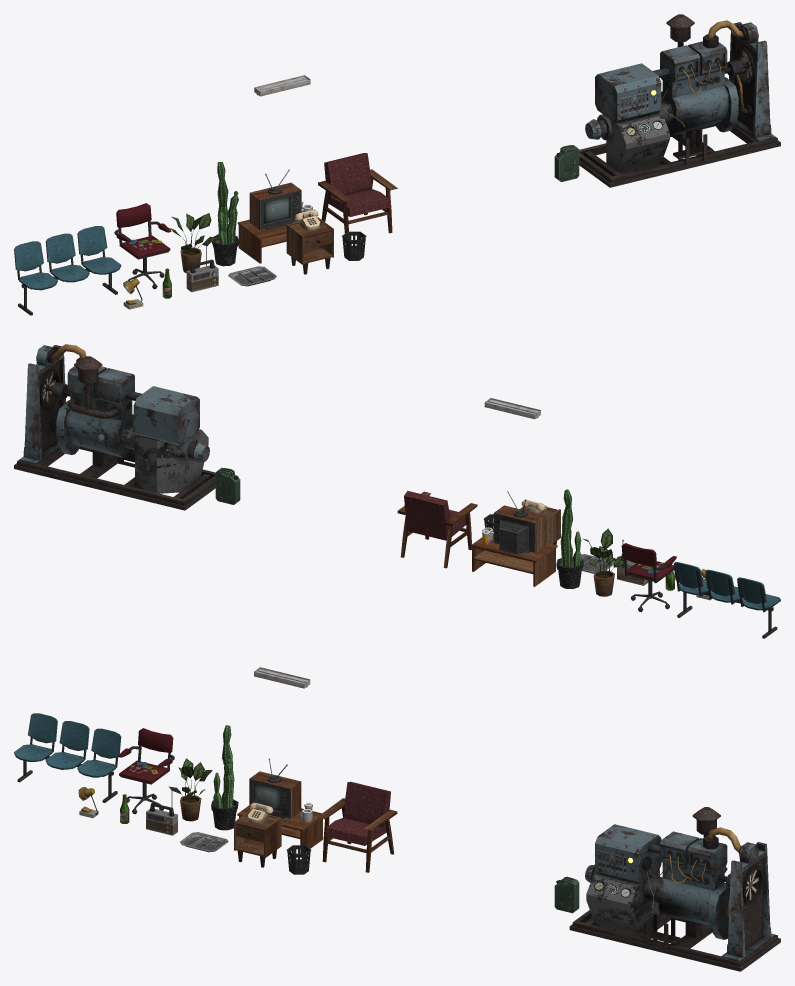
The model's file is Props.fbx.
The picture shows the model from 3 angles, top to bottom: view 1: azimuth 30°, elevation 25°; view 2: azimuth 150°, elevation 25°; view 3: azimuth 330°, elevation 25°; orthographic projection.
Parts seen in each view (by area): view 1: generator, chairs_link, armchair, tv, chair_office, plant_02, table_bedside_01, table_coffee, plant_01, radio, jerry_can, tray (+2 smaller); view 2: generator, chairs_link, armchair, tv, table_coffee, chair_office, plant_02, plant_01, jerry_can, lamp_ceiling_01, table_bedside_01; view 3: generator, chairs_link, armchair, tv, chair_office, plant_02, table_bedside_01, table_coffee, plant_01, radio, jerry_can, tray (+2 smaller).
Boxes of the visible parts, x1=… form: generator: x1=579, y1=14, x2=780, y2=187; chairs_link: x1=14, y1=226, x2=121, y2=315; armchair: x1=318, y1=153, x2=397, y2=238; tv: x1=249, y1=169, x2=301, y2=229; chair_office: x1=114, y1=203, x2=171, y2=289; plant_02: x1=212, y1=162, x2=238, y2=266; table_bedside_01: x1=286, y1=217, x2=333, y2=274; table_coffee: x1=237, y1=219, x2=299, y2=263; plant_01: x1=169, y1=213, x2=216, y2=272; radio: x1=186, y1=242, x2=218, y2=292; jerry_can: x1=554, y1=145, x2=579, y2=181; tray: x1=228, y1=266, x2=276, y2=286; generator: x1=14, y1=344, x2=215, y2=510; chairs_link: x1=673, y1=562, x2=780, y2=638; armchair: x1=397, y1=490, x2=477, y2=568; tv: x1=493, y1=491, x2=545, y2=554; table_coffee: x1=471, y1=529, x2=557, y2=586; chair_office: x1=620, y1=543, x2=676, y2=612; plant_02: x1=556, y1=489, x2=583, y2=589; plant_01: x1=582, y1=528, x2=624, y2=596; jerry_can: x1=215, y1=467, x2=240, y2=504; lamp_ceiling_01: x1=484, y1=398, x2=540, y2=419; table_bedside_01: x1=520, y1=506, x2=560, y2=548; generator: x1=569, y1=807, x2=780, y2=971; chairs_link: x1=14, y1=713, x2=121, y2=802; armchair: x1=317, y1=781, x2=397, y2=872; tv: x1=249, y1=758, x2=301, y2=818; chair_office: x1=118, y1=728, x2=174, y2=814; plant_02: x1=211, y1=725, x2=238, y2=830; table_bedside_01: x1=234, y1=810, x2=281, y2=867; table_coffee: x1=237, y1=805, x2=322, y2=853; plant_01: x1=169, y1=758, x2=212, y2=821; radio: x1=146, y1=789, x2=177, y2=835; jerry_can: x1=554, y1=876, x2=579, y2=913; tray: x1=180, y1=832, x2=228, y2=852.
Bounding box in the file's own units: 1175 × 250 × 151.
Materials: 22 (20 with a texture image).
